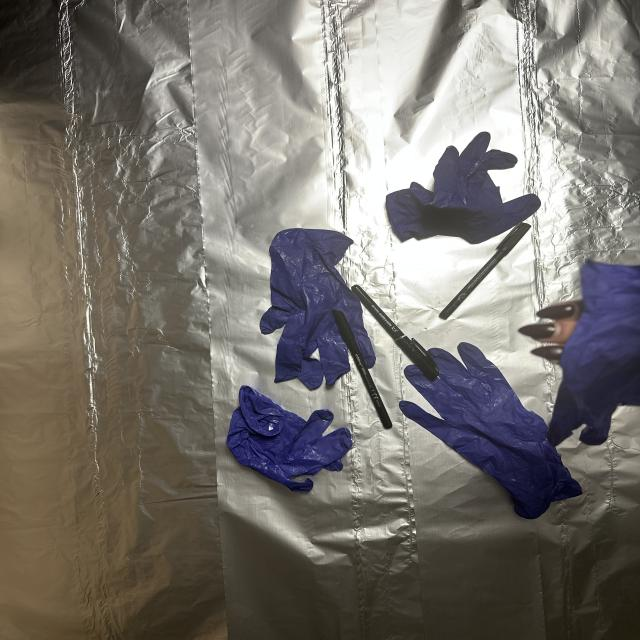glove_not_fitted: (527, 251, 640, 443)
